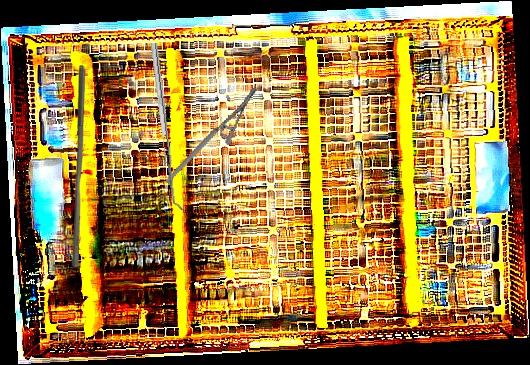Needle Holder: (145, 85, 277, 184)
Pusher: (71, 65, 86, 268)
Spatula Surgical: (150, 41, 185, 212)
